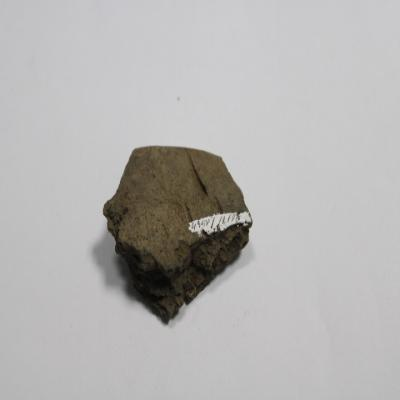archeology: (102, 146, 254, 326)
